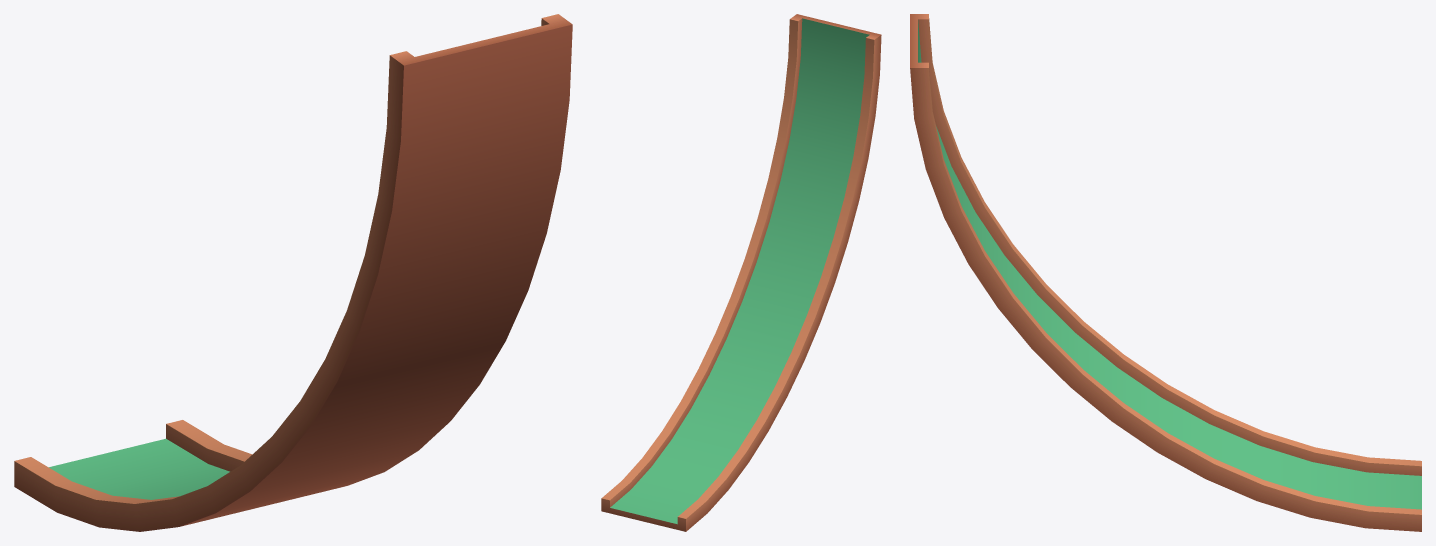
Rendered from spline-default-straight-bend-large.glb.
3 renders of one model, left to right at view 1: azimuth 30°, elevation 25°; view 2: azimuth 150°, elevation 25°; view 3: azimuth 270°, elevation 25°, orthographic. The views are drawn at different scales.
Parts seen in each view (by area): view 1: spline-default-straight-bend-large; view 2: spline-default-straight-bend-large; view 3: spline-default-straight-bend-large.
Part boxes in pixels (x1,y1,x2,y2): spline-default-straight-bend-large: (14,14,572,531); spline-default-straight-bend-large: (601,14,881,531); spline-default-straight-bend-large: (910,14,1421,531).
Size of the model in its own units: 1 by 4 by 4.
Materials: 1 (1 with a texture image).
